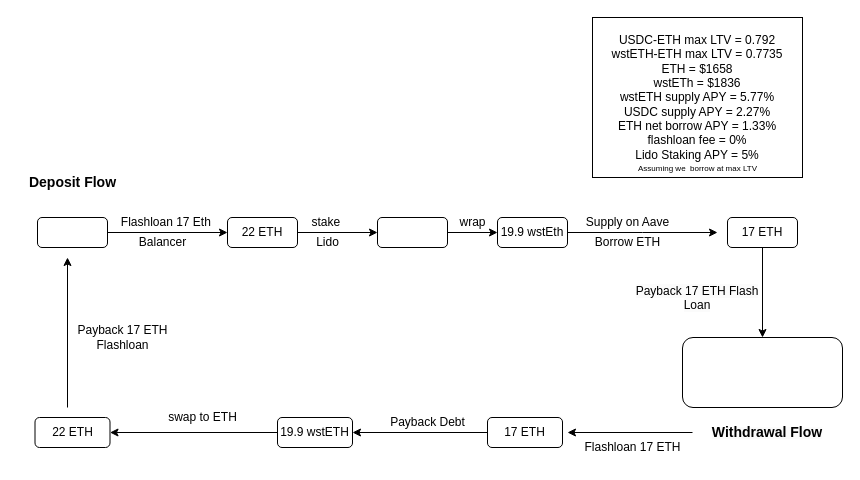
This 860x480 diagram has some shape labels left out. Here are the shapes that lost their labels. From the top down, the centre of each, then its label:
At point (72, 232): "5 ETH".
At point (412, 232): "22 stEth".
At point (762, 372): "Collateral = 19.9 wstETH Debt = 17 ETH".
